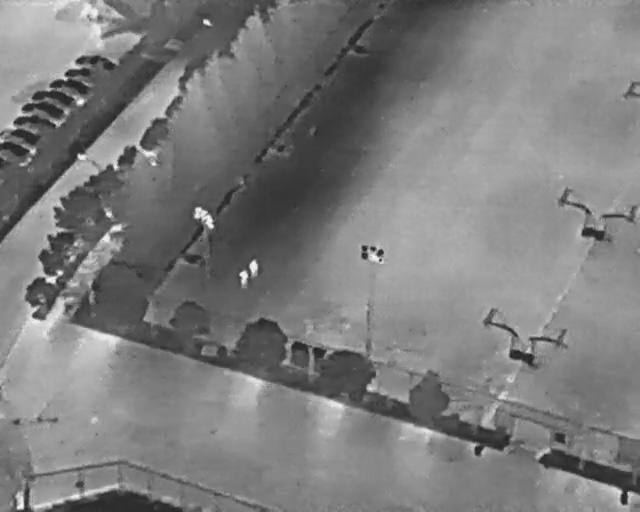Car: (11, 110, 61, 138), (18, 95, 68, 123), (28, 84, 78, 112), (45, 73, 95, 101), (69, 48, 118, 75), (0, 127, 41, 149), (0, 141, 32, 164), (61, 64, 99, 82)
Person: (238, 269, 249, 291), (249, 258, 259, 280)
